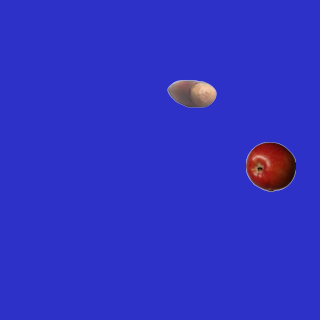Apple Braeburn: (245, 141, 295, 191)
Hazelnut: (166, 68, 216, 118)
